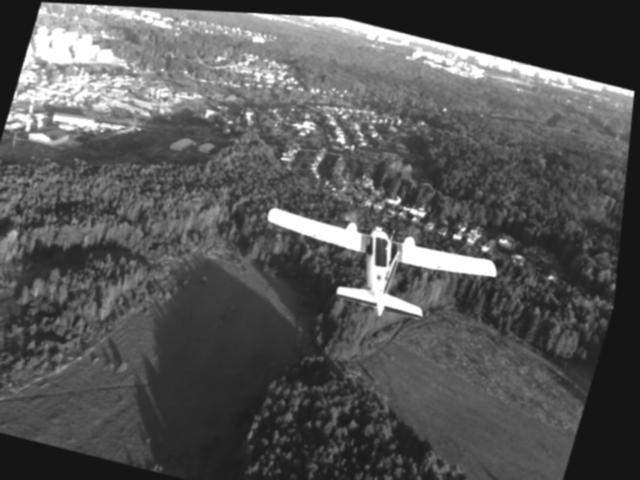hedef: (235, 181, 528, 345)
